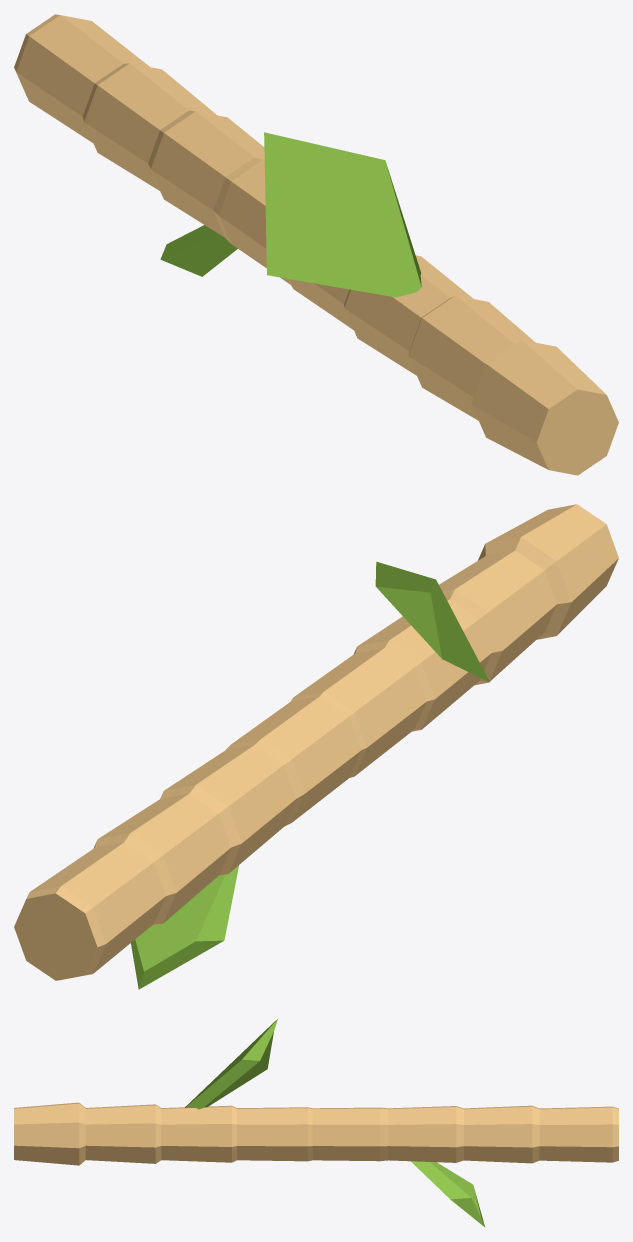
The model's file is Bamboo.fbx.
The picture shows the model from 3 angles, top to bottom: view 1: azimuth 30°, elevation 25°; view 2: azimuth 150°, elevation 25°; view 3: azimuth 270°, elevation 25°; orthographic projection. The views are drawn at different scales.
Visible parts, largest first — view 1: Bamboo; view 2: Bamboo; view 3: Bamboo.
Part boxes in pixels (x1,y1,x2,y2): Bamboo: (14, 14, 618, 475); Bamboo: (14, 504, 618, 989); Bamboo: (14, 1019, 618, 1227).
Bounding box in the file's own units: 74.16 × 113 × 352.
